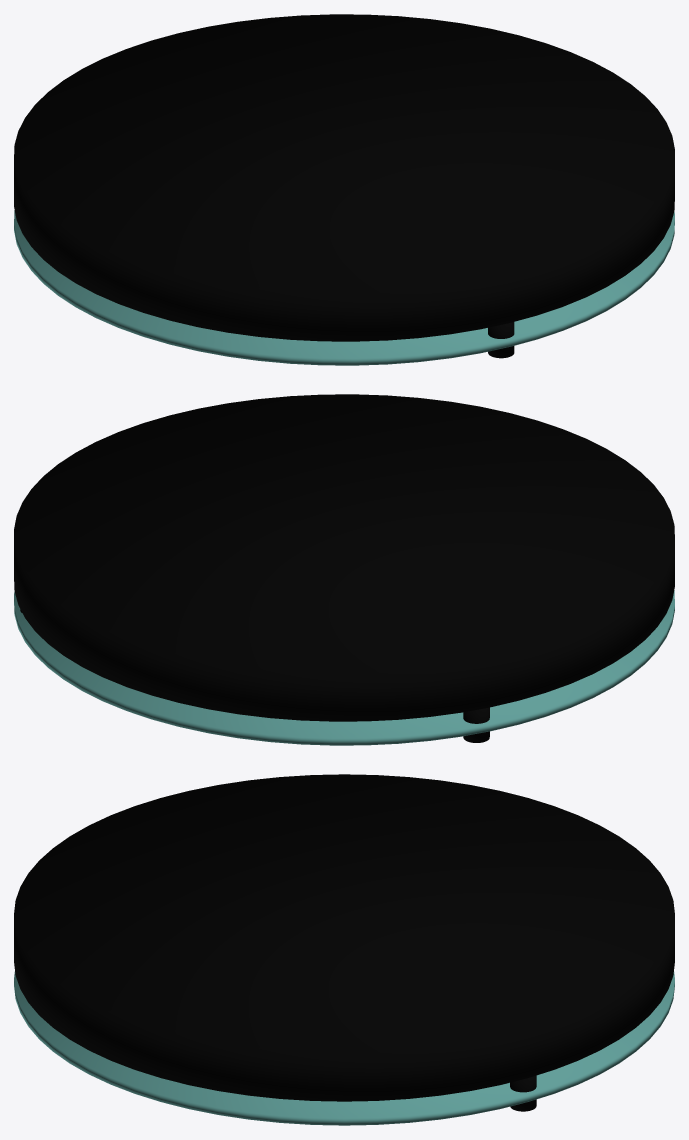
File: IAIAnteroomLight.dae
3 views of the same model, one above another, from view 1: azimuth 30°, elevation 25°; view 2: azimuth 150°, elevation 25°; view 3: azimuth 270°, elevation 25° (orthographic).
Parts seen in each view (by area): view 1: SM_IAIAnteroomLight; view 2: SM_IAIAnteroomLight; view 3: SM_IAIAnteroomLight.
Part boxes in pixels (x1,y1,x2,y2): SM_IAIAnteroomLight: (14, 14, 674, 365); SM_IAIAnteroomLight: (14, 394, 674, 745); SM_IAIAnteroomLight: (14, 774, 674, 1125).
Bounding box in the file's own units: 0.25 × 0.25 × 0.035.
